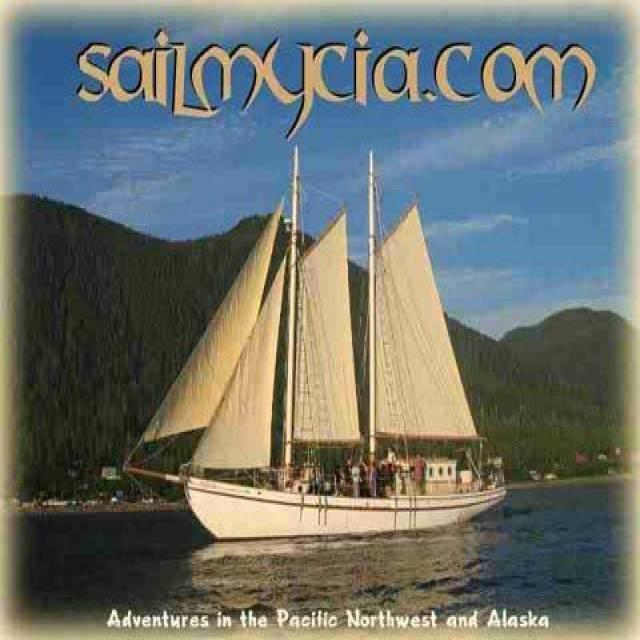Ship: (123, 140, 510, 535)
